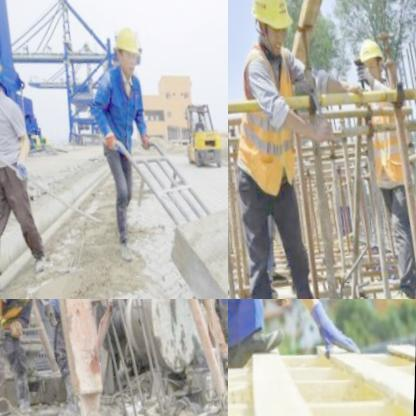helmet: (245, 0, 298, 56), (108, 13, 149, 78), (355, 31, 388, 76)
